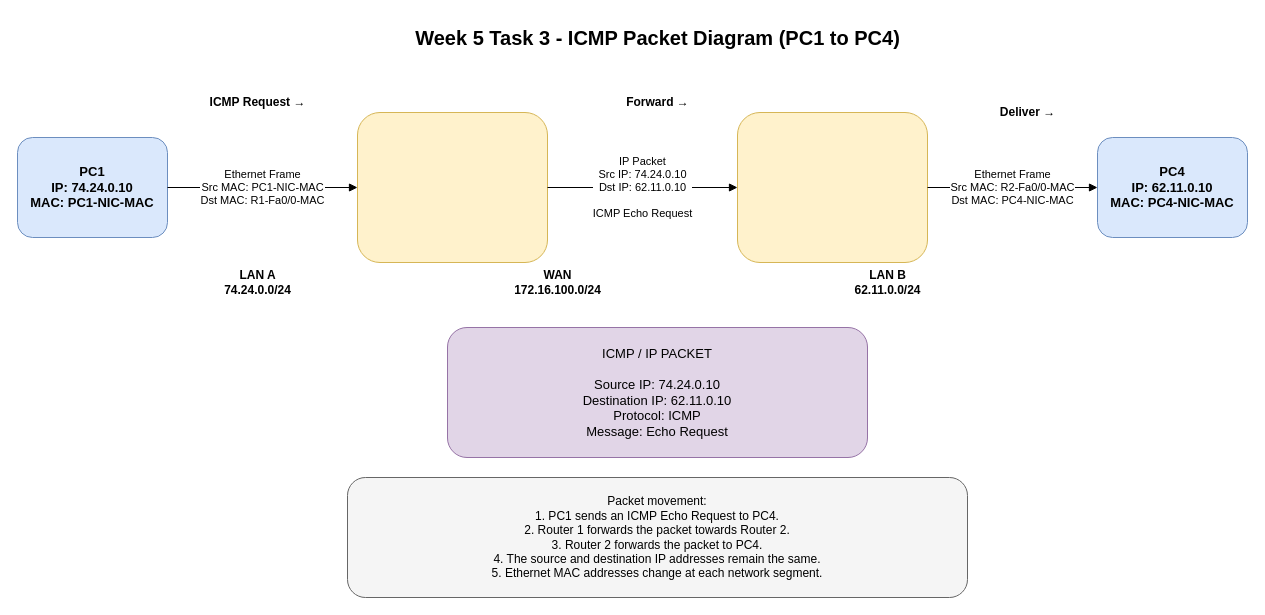
The diagram is 1265 pixels wide and 615 high, and some of its shapes have lost their labels. The shapes that lost their labels are listed below. From the top down, each one's box as (x1, y1, x2, y2) in pixels, then its label:
(356, 112, 548, 262): Router 1 Fa0/0: 74.24.0.1 Se0/0: 172.16.100.1
(736, 112, 928, 262): Router 2 Se0/0: 172.16.100.2 Fa0/0: 62.11.0.1
